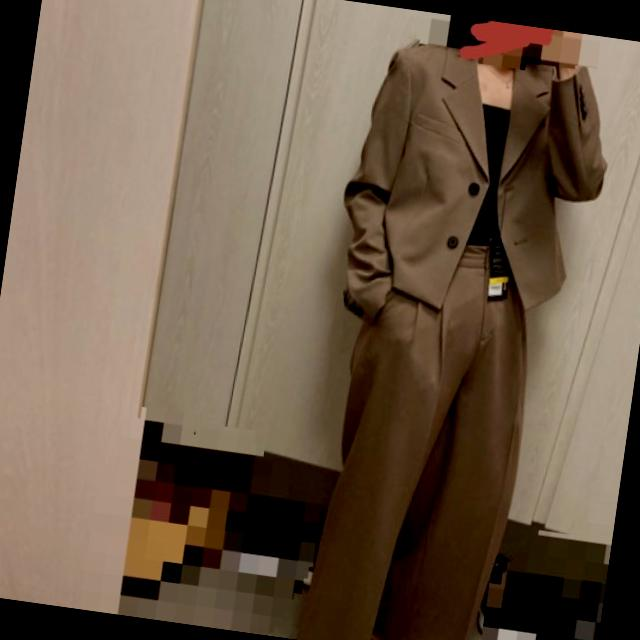blazer: (324, 26, 624, 356)
slacks: (291, 227, 546, 640)
